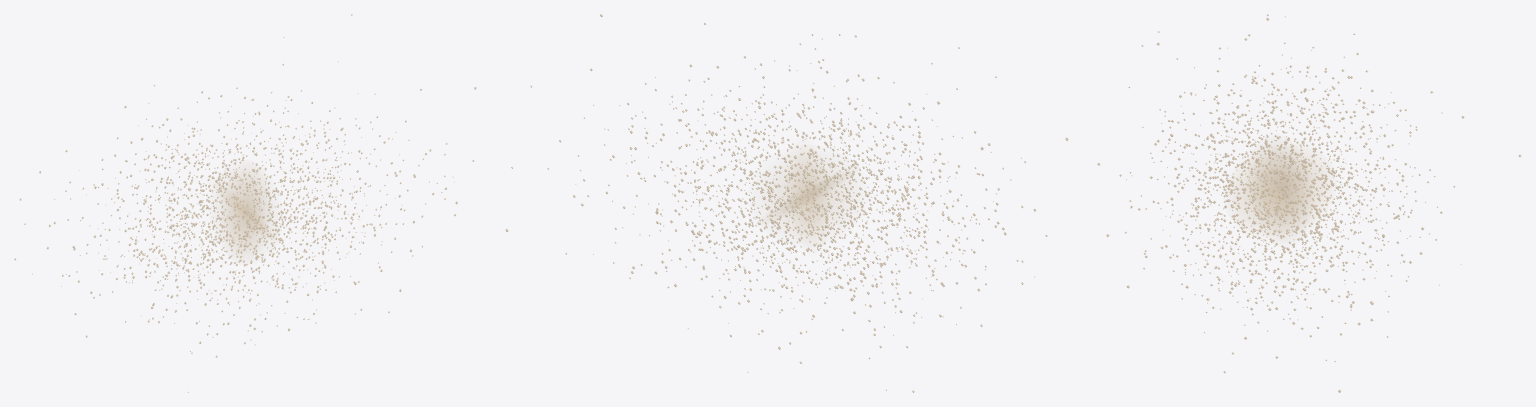
3 views of the same model, side by side, from view 1: azimuth 30°, elevation 25°; view 2: azimuth 150°, elevation 25°; view 3: azimuth 270°, elevation 25° (orthographic). The views are drawn at different scales.
Size of the model in its own units: 8.02 by 4.86 by 6.02.
